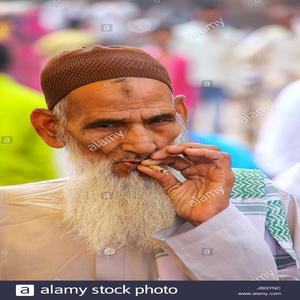cigarette: (147, 163, 171, 175)
